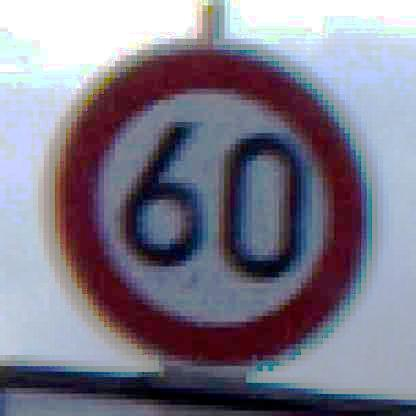Speed Limit -60-: (35, 39, 380, 378)
